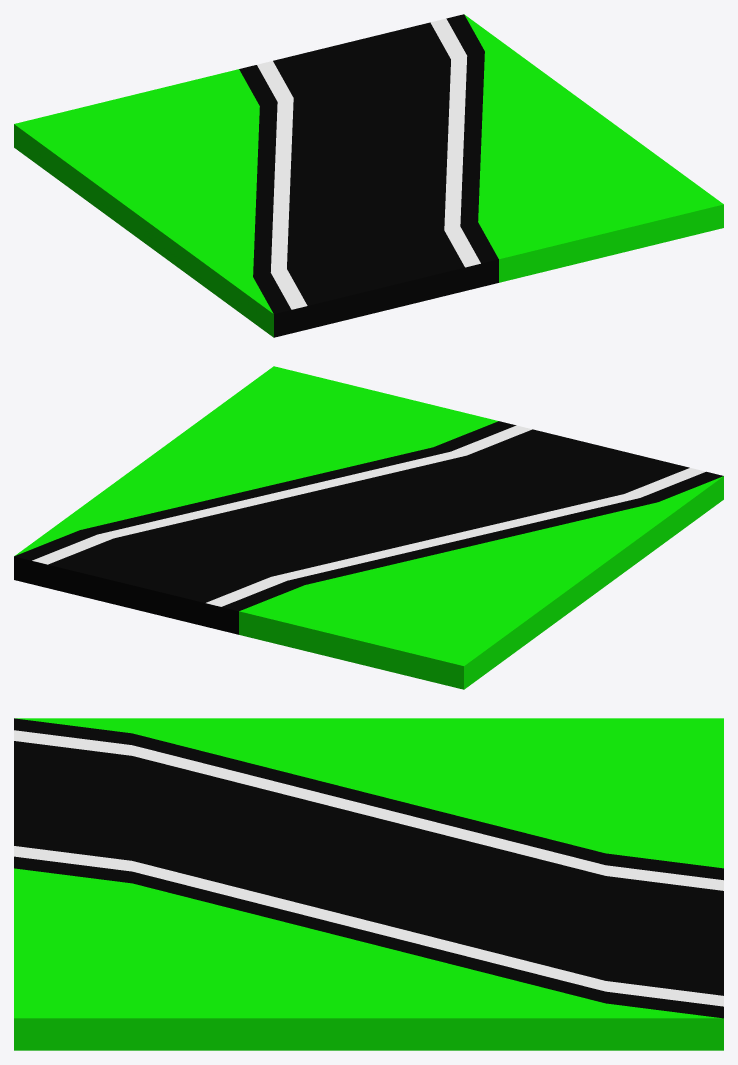
Rendered from halfroad2_mirror_export.fbx.
The picture shows the model from 3 angles, top to bottom: view 1: azimuth 30°, elevation 25°; view 2: azimuth 150°, elevation 25°; view 3: azimuth 270°, elevation 25°; orthographic projection. The views are drawn at different scales.
Visible parts, largest first — view 1: Road, Grass2, Grass1; view 2: Road, Grass2, Grass1; view 3: Road, Grass1, Grass2.
Boxes of the visible parts, x1=… form: Road: x1=239, y1=14, x2=498, y2=337; Grass2: x1=14, y1=69, x2=273, y2=337; Grass1: x1=464, y1=14, x2=723, y2=282; Road: x1=14, y1=421, x2=723, y2=634; Grass2: x1=239, y1=476, x2=723, y2=689; Grass1: x1=15, y1=366, x2=498, y2=555; Road: x1=14, y1=718, x2=723, y2=1018; Grass1: x1=14, y1=868, x2=723, y2=1050; Grass2: x1=15, y1=718, x2=723, y2=868.
Size of what is drawn, in the model's own units: 20 by 1 by 20.
